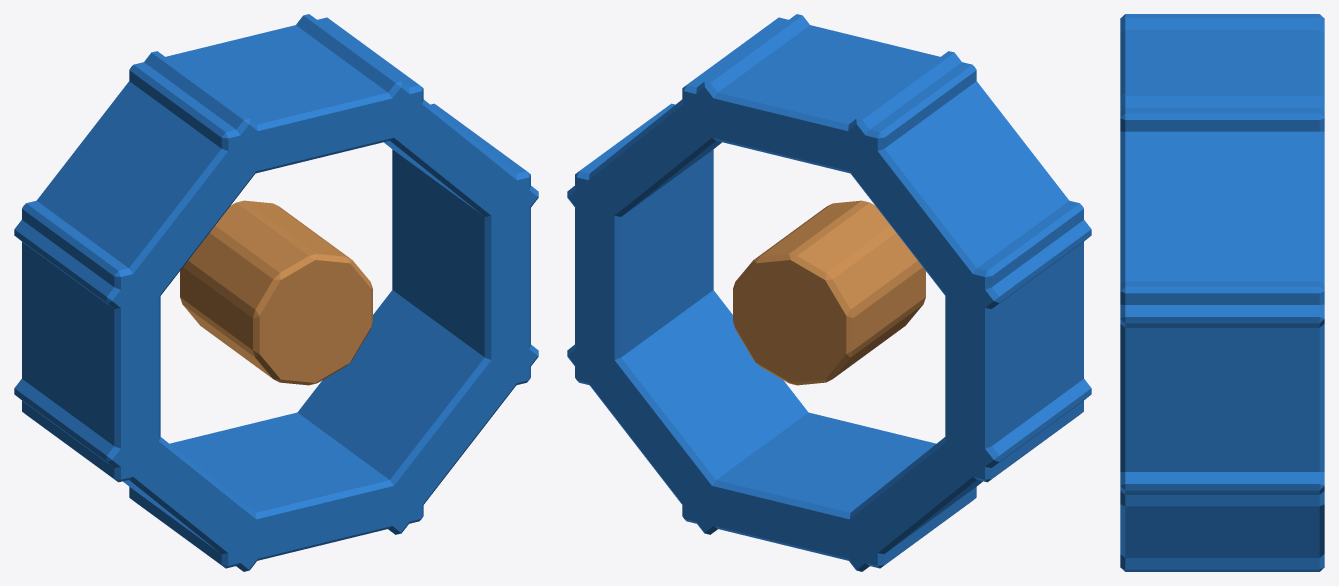
The model's file is water_wheel.glb.
3 views of the same model, side by side, from view 1: azimuth 30°, elevation 25°; view 2: azimuth 150°, elevation 25°; view 3: azimuth 270°, elevation 25° (orthographic). The views are drawn at different scales.
Visible parts, largest first — view 1: water_wheel; view 2: water_wheel; view 3: water_wheel.
Boxes of the visible parts, left/top/right/bottom form: water_wheel: left=14, top=14, right=538, bottom=571; water_wheel: left=567, top=14, right=1091, bottom=571; water_wheel: left=1120, top=14, right=1324, bottom=571.
Size of the model in its own units: 0.5127 by 0.5127 by 0.2.
